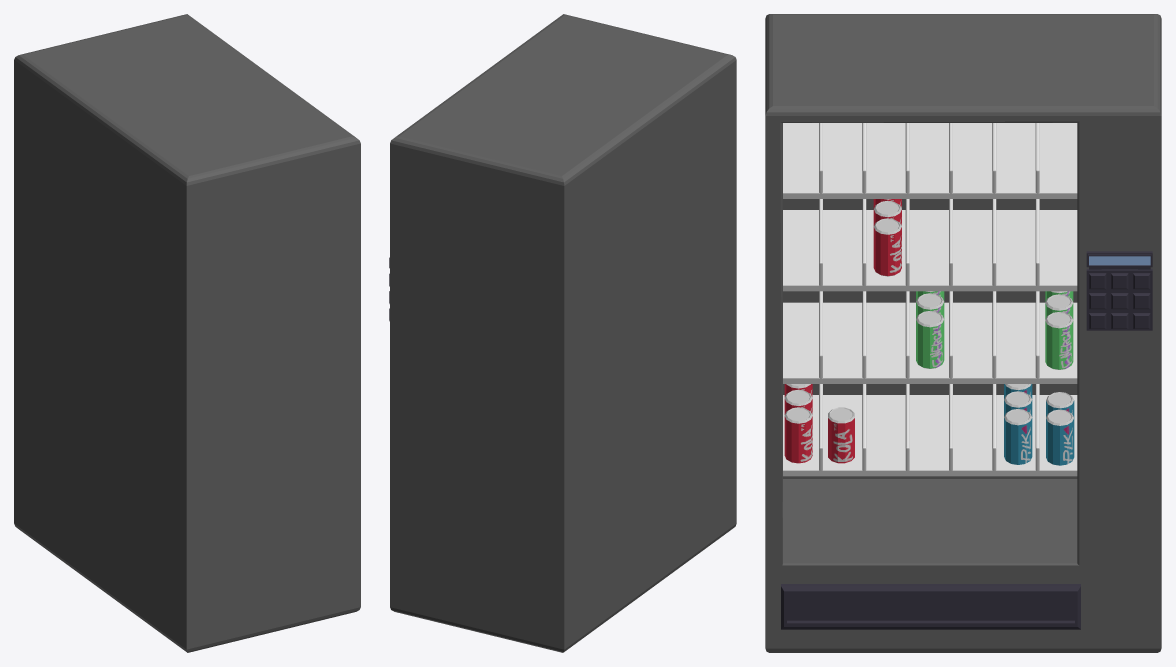
Rendered from Vending Machine.fbx.
The picture shows the model from 3 angles, left to right: view 1: azimuth 30°, elevation 25°; view 2: azimuth 150°, elevation 25°; view 3: azimuth 270°, elevation 25°; orthographic projection. The views are drawn at different scales.
Parts seen in each view (by area): view 1: Vending Machine; view 2: Vending Machine; view 3: Vending Machine, Shelf.002, Shelf.003, Shelf, Shelf.001, Cube, Keypad, Cans of Pepsi.001, Cans of Coke.001, Cans of Fanta.001, Cans of Fanta, Cans of Coke (+2 smaller).
Part boxes in pixels (x1,y1,x2,y2): Vending Machine: [14, 14, 360, 652]; Vending Machine: [390, 14, 736, 652]; Vending Machine: [765, 14, 1161, 652]; Shelf.002: [783, 199, 1077, 291]; Shelf.003: [783, 123, 1077, 198]; Shelf: [783, 291, 1077, 383]; Shelf.001: [783, 384, 1077, 476]; Cube: [781, 584, 1080, 629]; Keypad: [1086, 251, 1152, 330]; Cans of Pepsi.001: [1004, 384, 1032, 464]; Cans of Coke.001: [784, 384, 812, 463]; Cans of Fanta.001: [1045, 291, 1073, 369]; Cans of Fanta: [916, 291, 944, 368]; Cans of Coke: [873, 199, 901, 276].
Bounding box in the file's own units: 469 × 1181 × 776.
9 materials, 3 textured.
